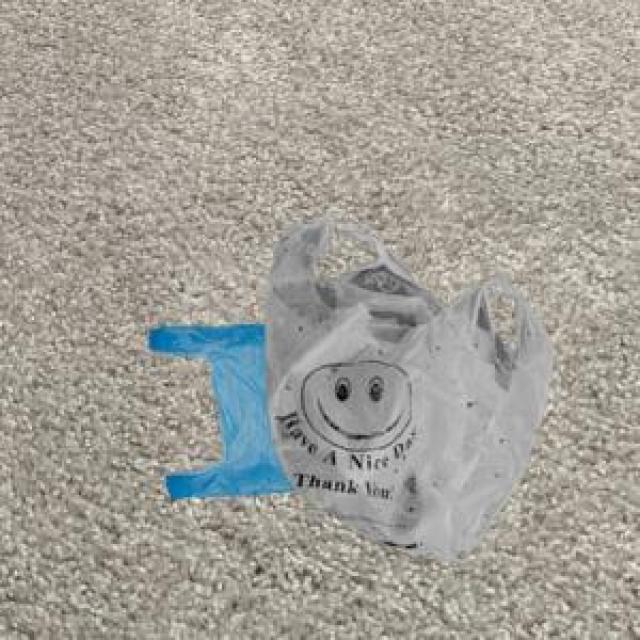waste: (149, 219, 551, 557)
